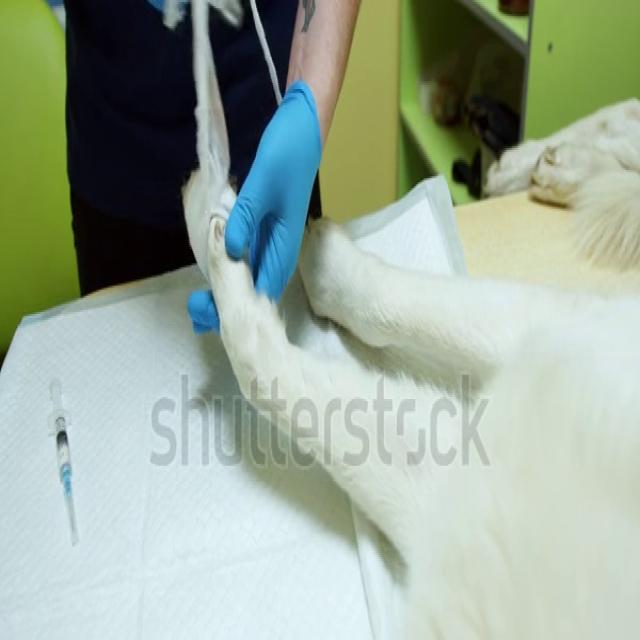injured-animals: (175, 6, 638, 638)
